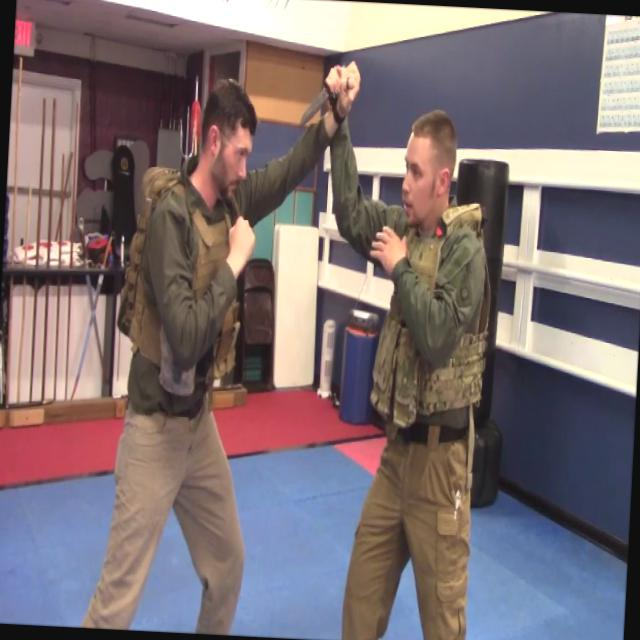knife: (294, 76, 336, 134)
